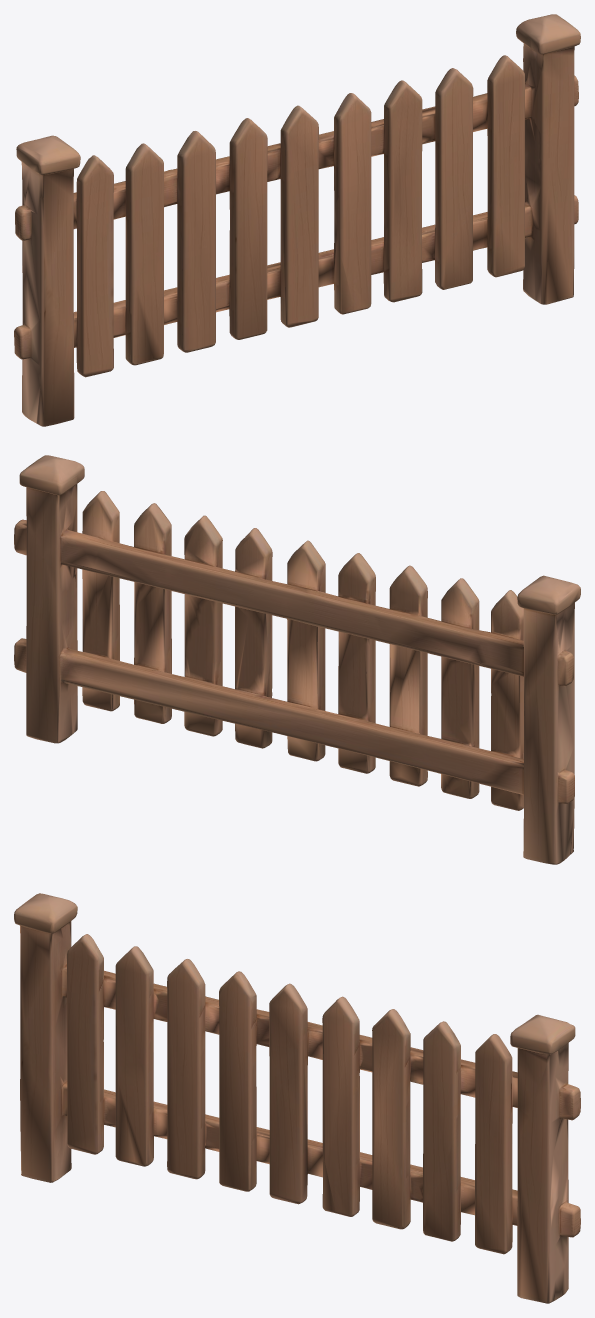
Rendered from fence.glb.
3 views of the same model, one above another, from view 1: azimuth 30°, elevation 25°; view 2: azimuth 150°, elevation 25°; view 3: azimuth 330°, elevation 25° (orthographic).
Parts seen in each view (by area): view 1: node_0; view 2: node_0; view 3: node_0.
Part boxes in pixels (x1,y1,x2,y2): node_0: (14, 14, 580, 426); node_0: (14, 455, 580, 864); node_0: (14, 893, 580, 1303).
Size of the model in its own units: 1.12 by 0.5292 by 0.0877.
Materials: 1 (1 with a texture image).
